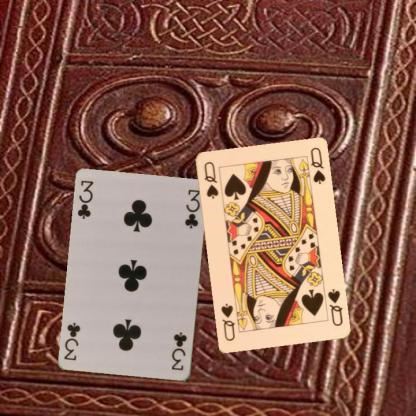3c: (75, 178, 95, 221), (170, 330, 188, 372)
Qs: (324, 286, 344, 327), (201, 158, 220, 200)
